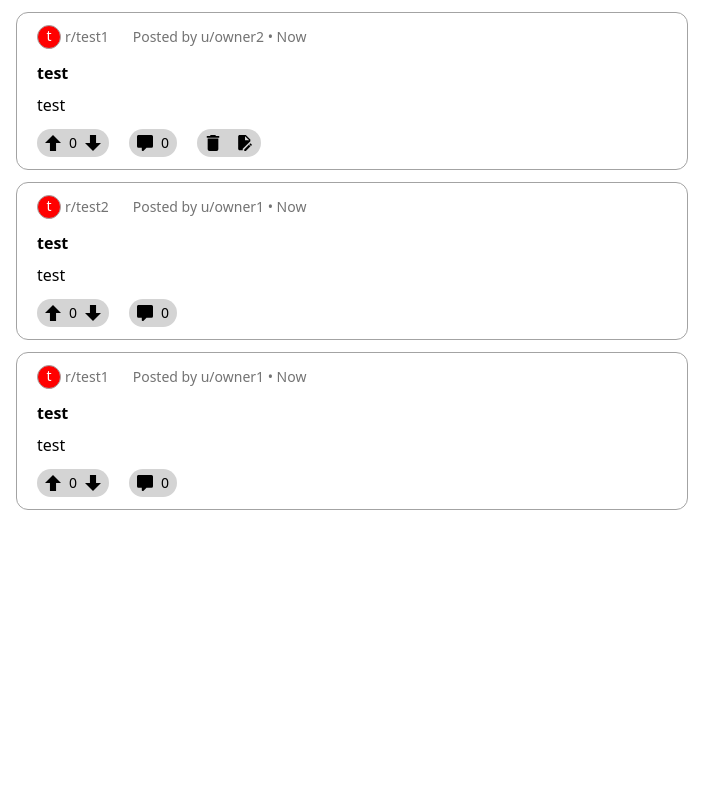
Test: edit posts component › edit post header pops up
What coordinates should you click on to do the following:
click the button named "edit post"
I would click on:
 (245, 143)
Its box is [237,135,253,151].
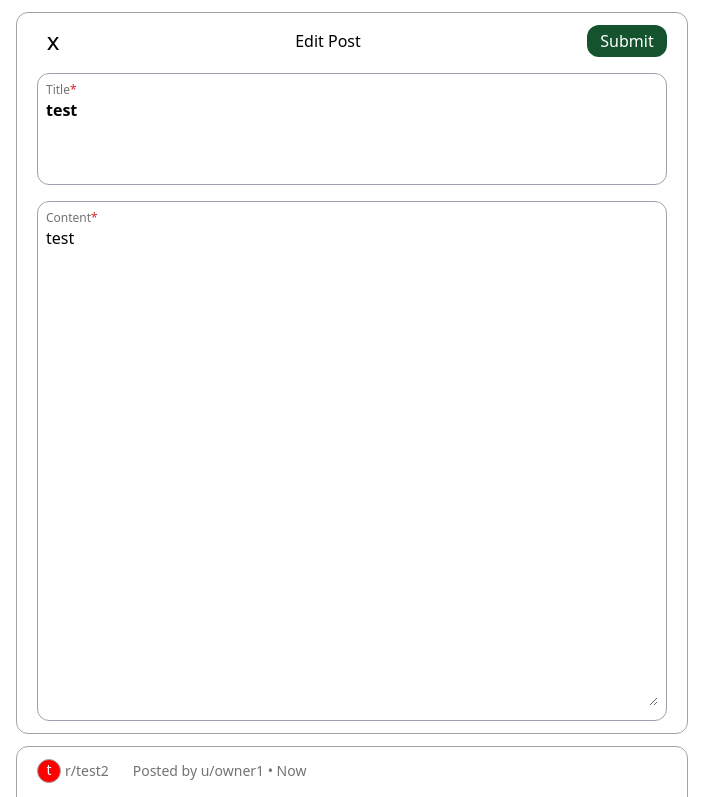
Expected: the heading "Edit Post" is shown, [295,29,361,53]
